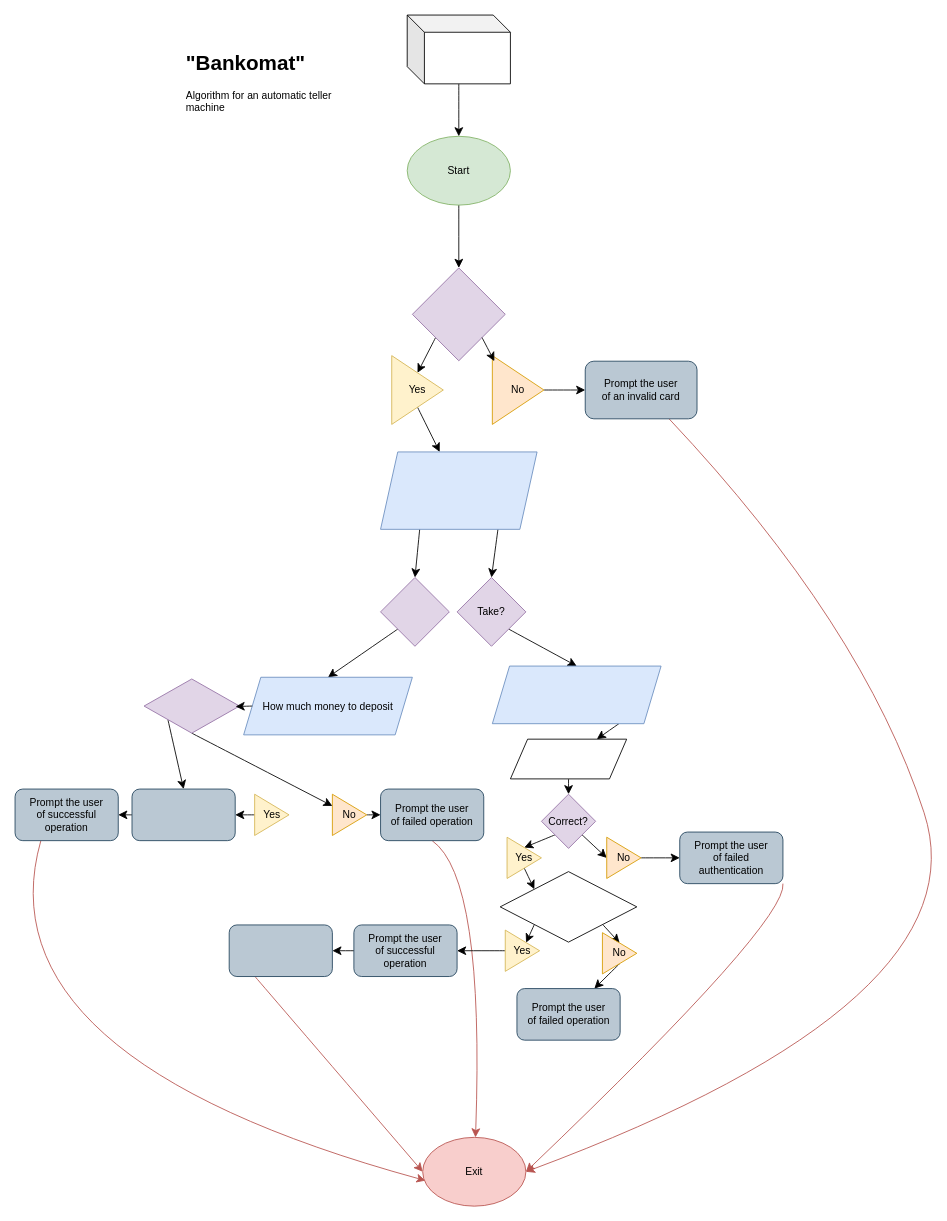
Some shapes in this 947 by 1221 pixel diagram are drawn without their labels. Each missing label, with the centre of its shape:
Add the money to the account: point 183,814
CVV: point 568,758
Deposit / Take Money: point 458,490
Deposit?: point 414,611
Enough money inserted?: point 191,705
Give user the money: point 280,950
How much money to take: point 576,694
Insert card: point 458,49
Is the card valid?: point 458,314
Is there enough money on the account?: point 568,906
